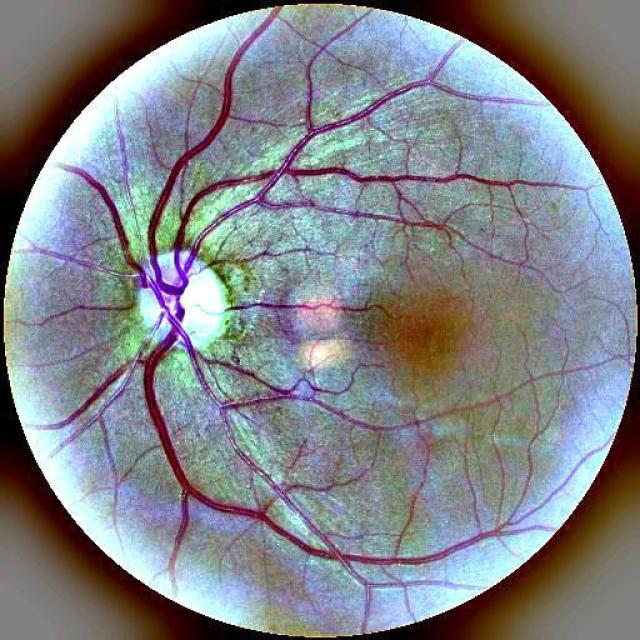Macula: (401, 302, 454, 365)
Nerves: (14, 10, 559, 452), (168, 448, 501, 588), (198, 368, 404, 430), (34, 302, 129, 326), (82, 381, 128, 426), (225, 299, 381, 311)
Optic Disk: (134, 252, 229, 350)
